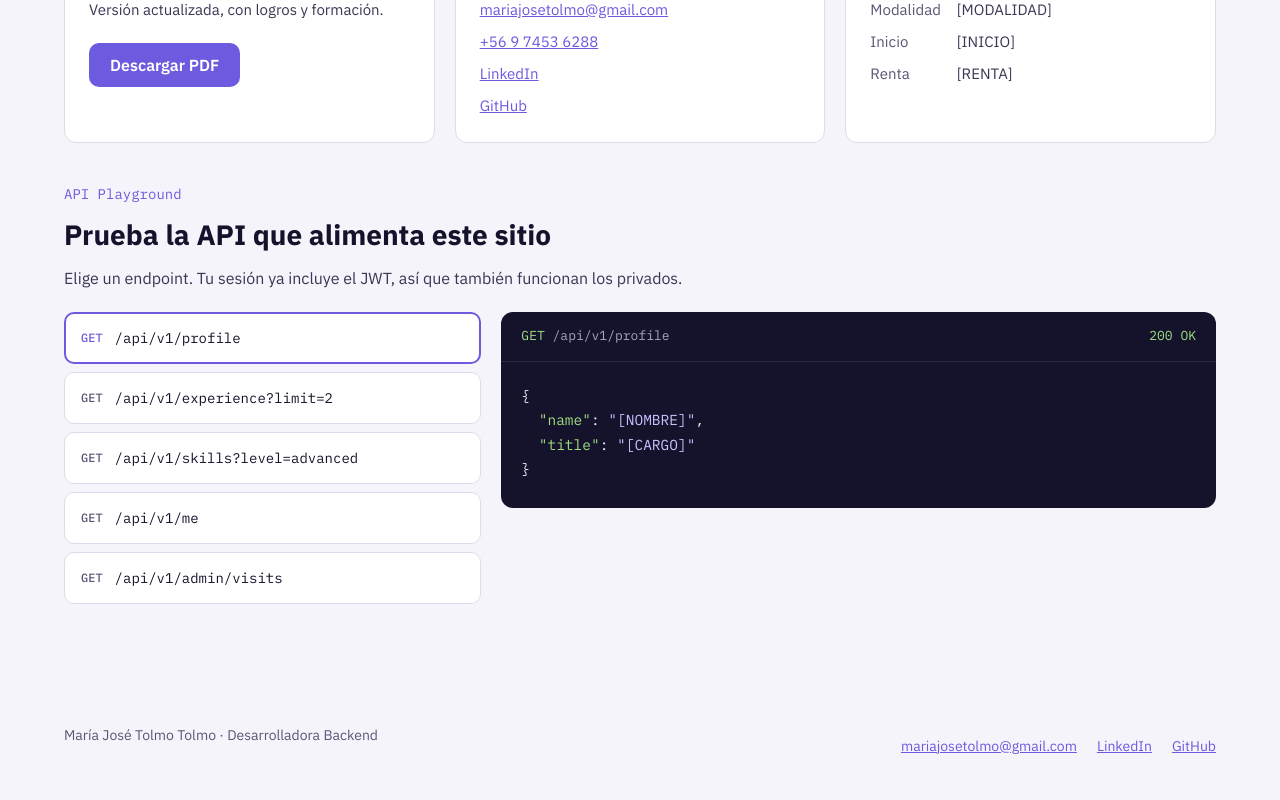
Test: recruiter page › plays the API with the mock gateway: 200 first, 403 for admin/visits
This screenshot has width=1280, height=800.
(page scrolled)
Check: the element named "GET /api/v1/profile 200 OK" shows "200 OK", box [1149,327,1196,344]
Click the button "GET /api/v1/admin/visits": point(273, 578) [64,552,481,604]
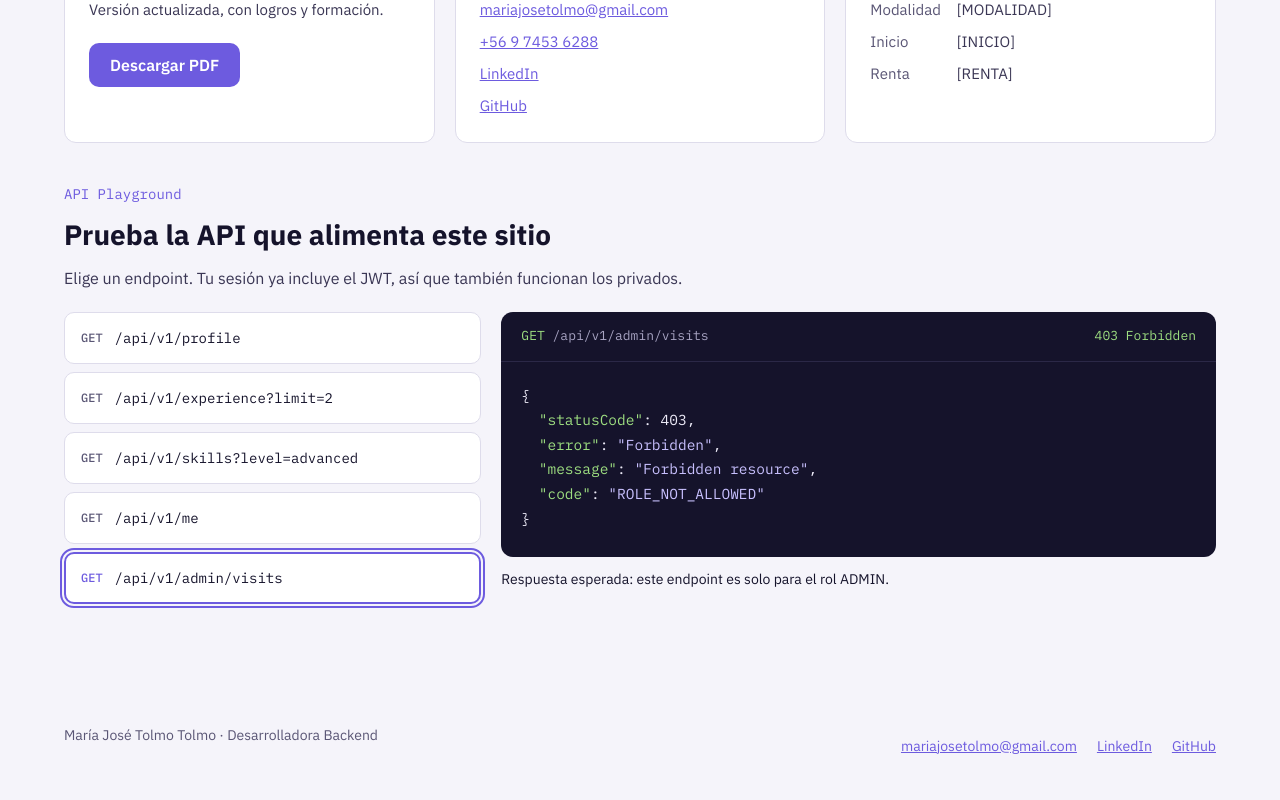
Check: the element named "GET /api/v1/admin/visits 403 Forbidden" shows "403 Forbidden", box [1095,327,1196,344]
Check: the element named "GET /api/v1/admin/visits 403 Forbidden" shows "/api/v1/admin/visits", box [552,327,708,344]
